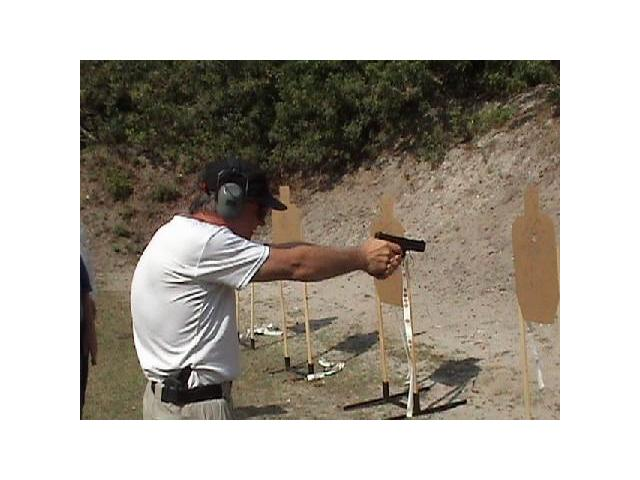pistol: (370, 229, 428, 280)
